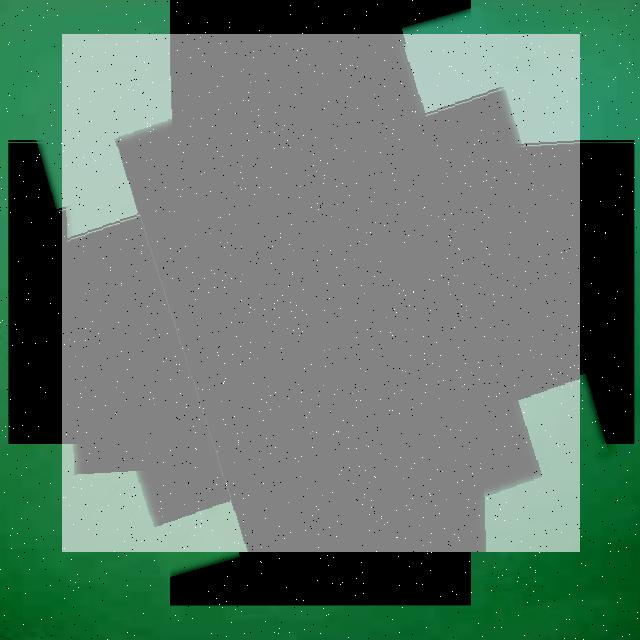lima puluh ribu rupiah: (62, 34, 580, 552)
